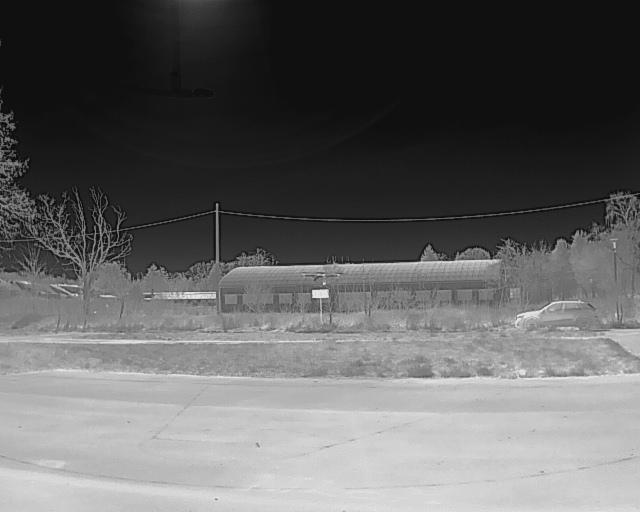drone: (295, 263, 350, 300)
